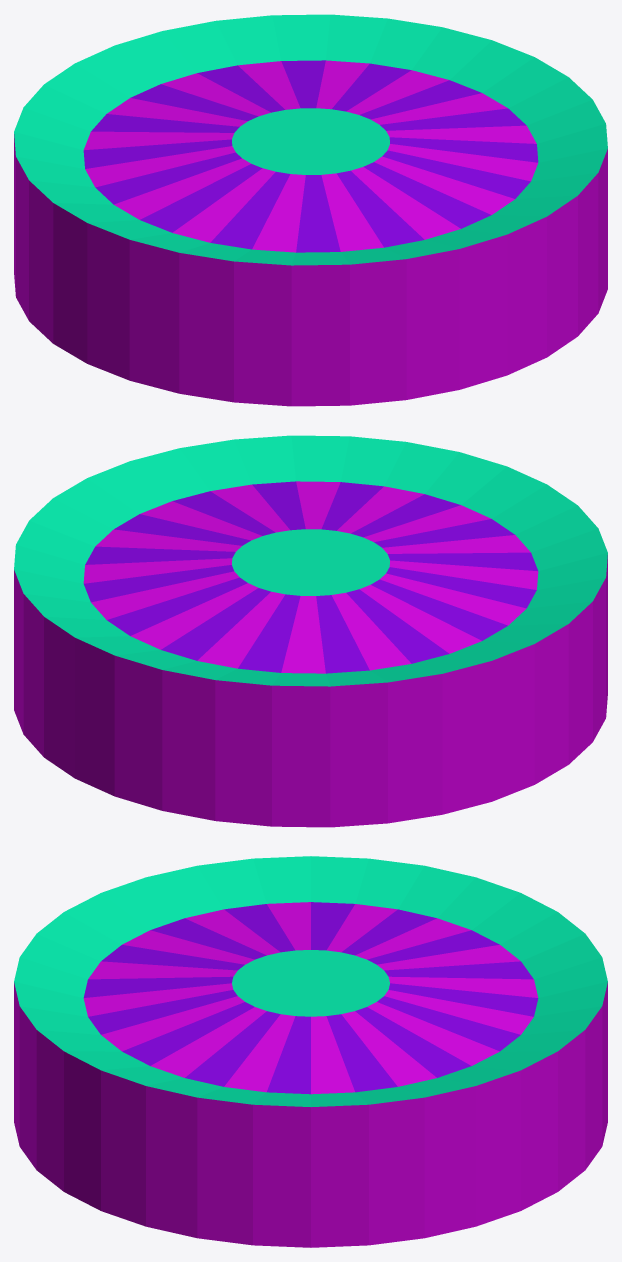
The model's file is wheel.fbx.
3 renders of one model, top to bottom at view 1: azimuth 30°, elevation 25°; view 2: azimuth 150°, elevation 25°; view 3: azimuth 270°, elevation 25°, orthographic.
Visible parts, largest first — view 1: Cylinder; view 2: Cylinder; view 3: Cylinder.
Boxes of the visible parts, x1,y1,x2,y2 form: Cylinder: (14, 14, 607, 406); Cylinder: (14, 435, 607, 827); Cylinder: (14, 856, 607, 1247).
Size of the model in its own units: 261 by 68.26 by 261.
